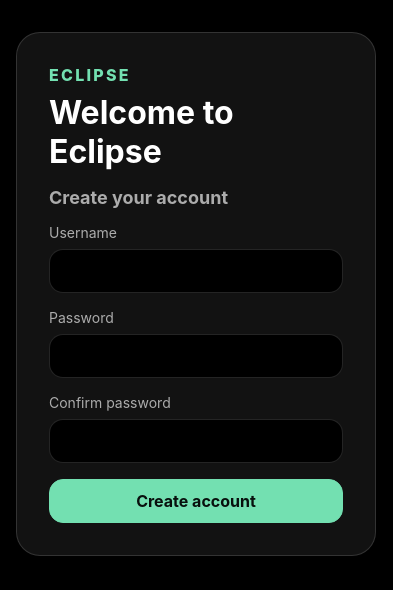
first-run authentication › rejects a password confirmation mismatch without registering
The width and height of the screenshot is (393, 590).
Type "owner" into the field labelled "Username".
click(196, 271); type("owner")  # box [49,249,343,293]
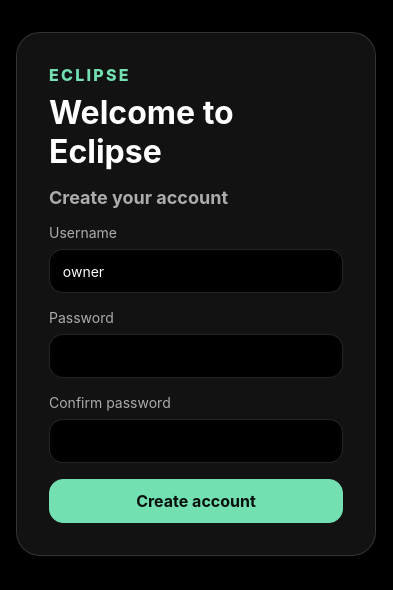
Type "password123" into the password field labelled "Password".
click(196, 356); type("password123")  # box [49,334,343,378]
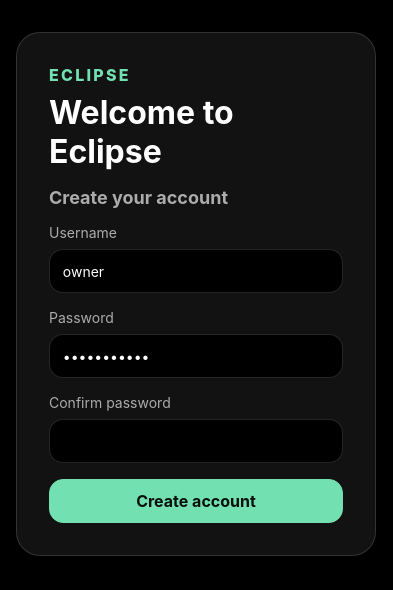
Type "different123" into the password field labelled "Confirm password".
click(196, 441); type("different123")  # box [49,419,343,463]
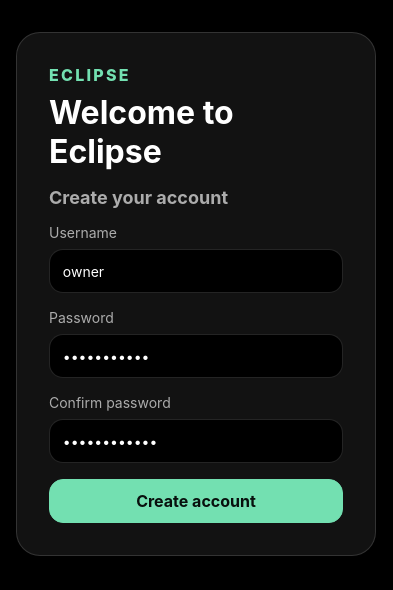
Submit the form
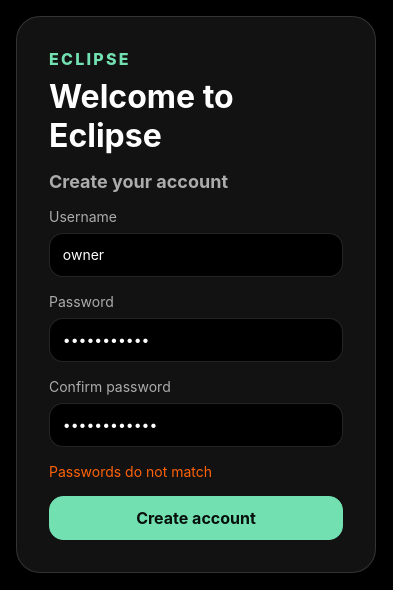
Now the message "Passwords do not match" is shown, box [49,462,212,480]
